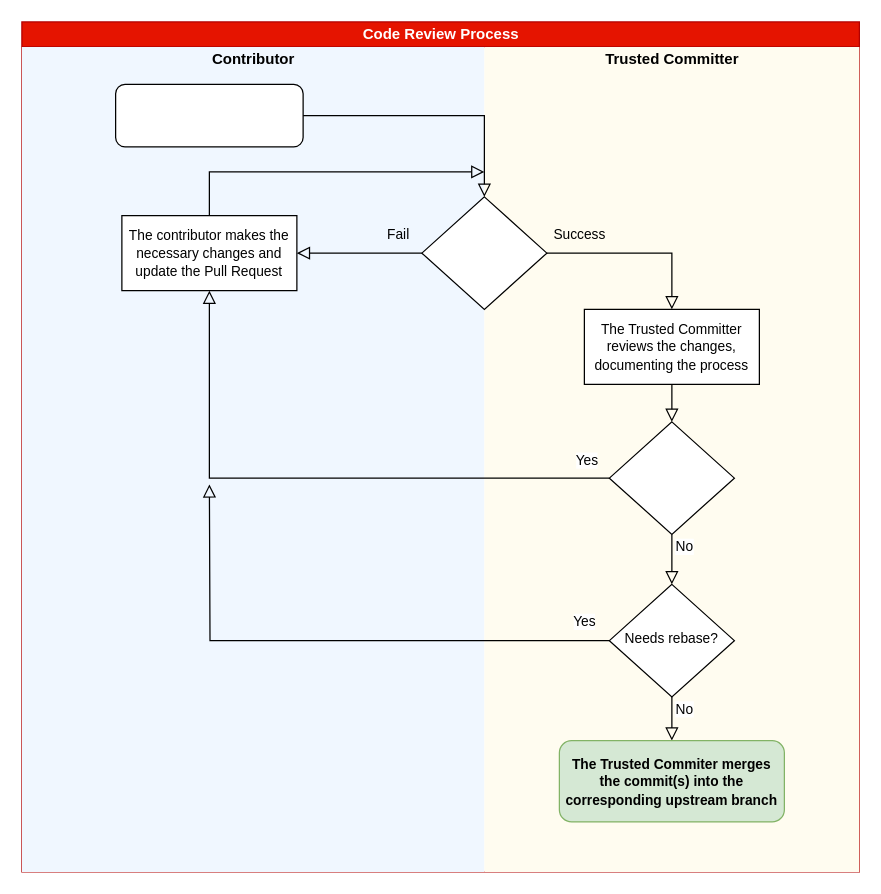
This 881x894 diagram has some shape labels left out. The centre of each missing label's shape, as x and y in pixels:
Automatic testing: [484,252]
Request changes?: [671,477]
The contributor creates a new Pull Request: [208,115]
